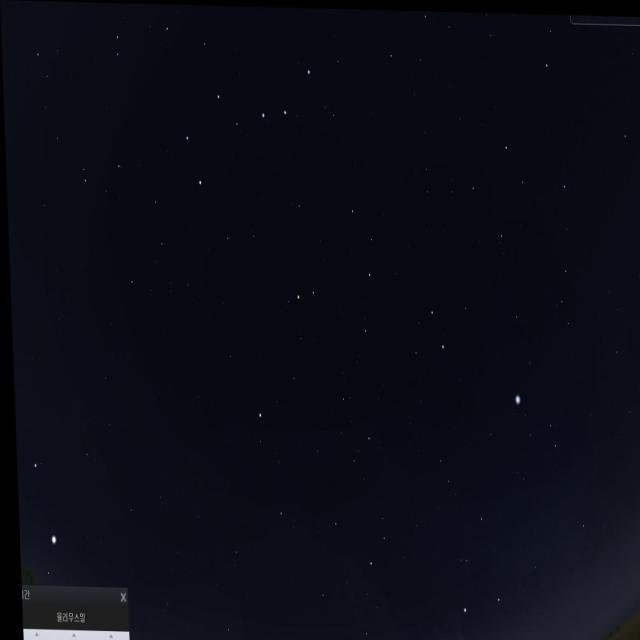lyra: (506, 370, 564, 466)
ursa_major: (177, 53, 317, 194)
